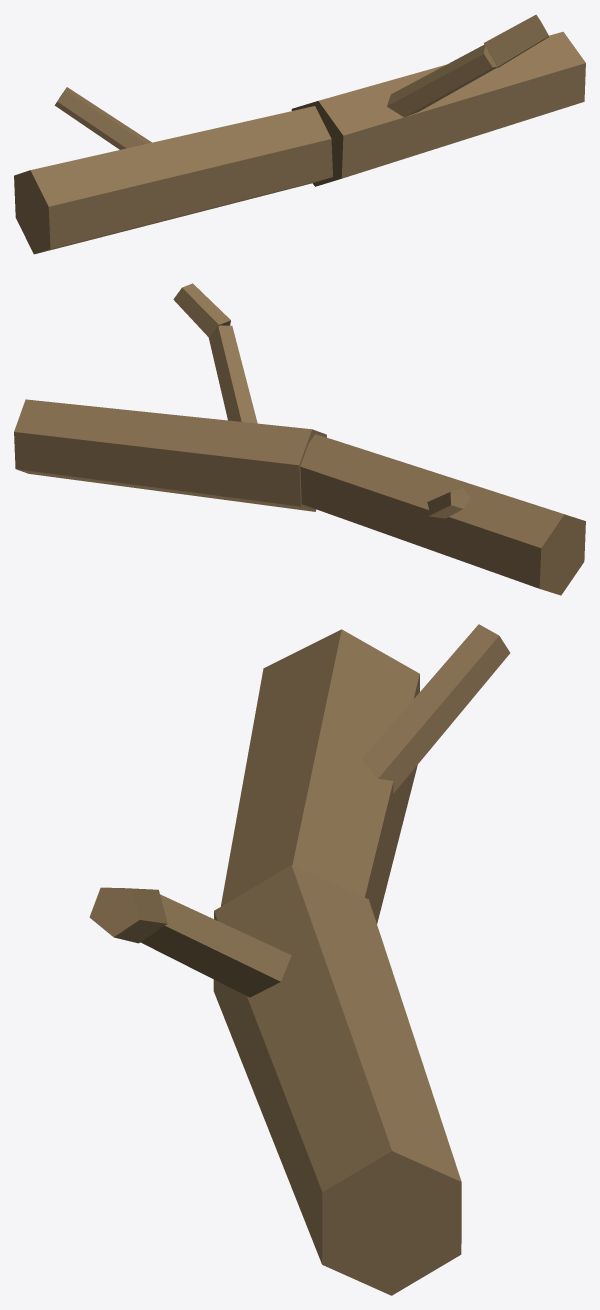
The model's file is driftwood.glb.
3 views of the same model, one above another, from view 1: azimuth 30°, elevation 25°; view 2: azimuth 150°, elevation 25°; view 3: azimuth 270°, elevation 25° (orthographic). The views are drawn at different scales.
Visible parts, largest first — view 1: bark_light-col; view 2: bark_light-col; view 3: bark_light-col.
Part boxes in pixels (x1,y1,x2,y2): bark_light-col: (14, 14, 585, 254); bark_light-col: (14, 283, 585, 595); bark_light-col: (89, 624, 510, 1295).
Size of the model in its own units: 2.44 by 0.7207 by 0.8365.
